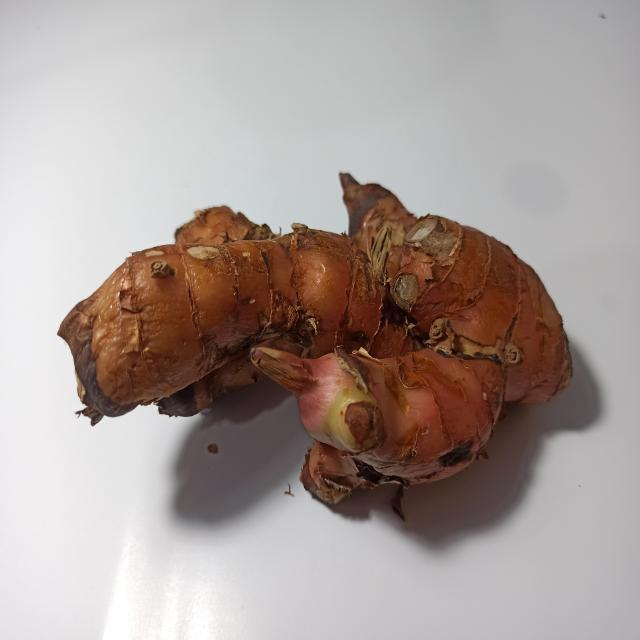ginger: (50, 168, 583, 459)
